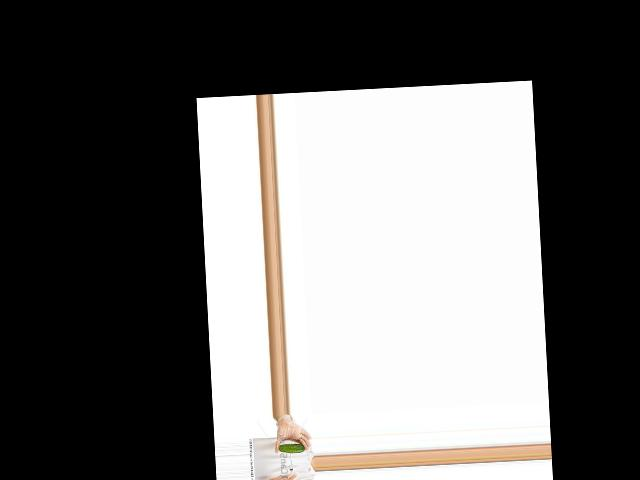cucumber: (277, 442, 304, 453)
